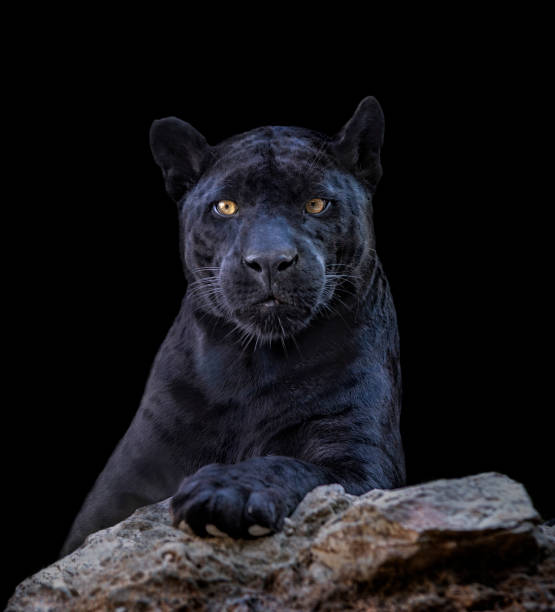panther: (125, 80, 413, 368)
